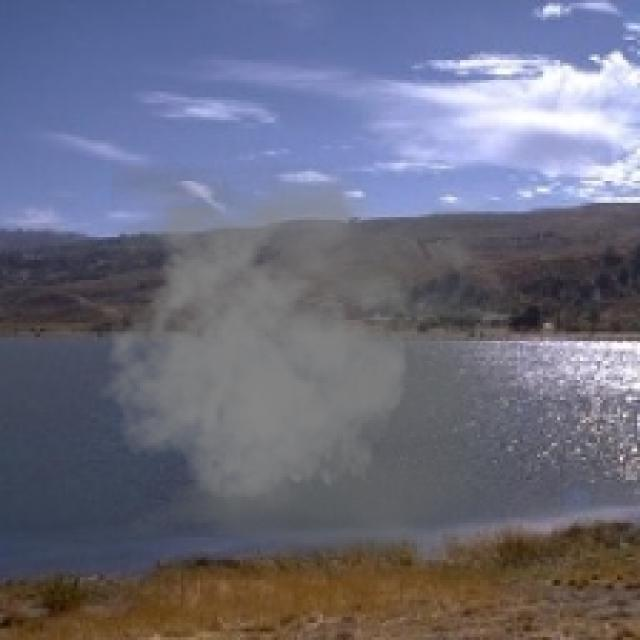smoke: (97, 163, 517, 563)
